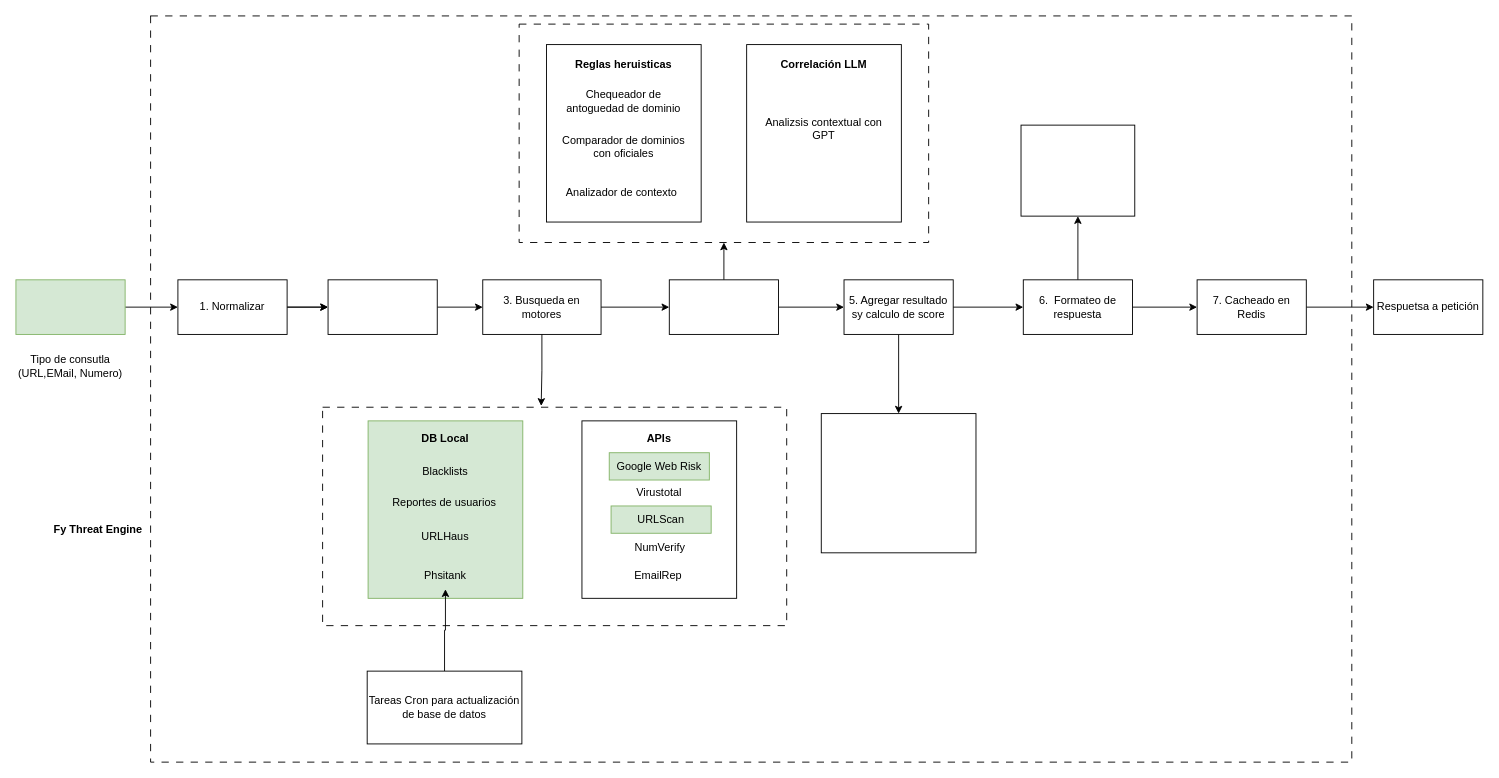
The diagram is 1499 pixels wide and 778 high, and some of its shapes have lost their labels. Here are the shapes that lost their labels. From the top down, the centre of each, then its label:
[1077,170]: risk_score risk_level Threats [] Reasons [] recommended_action
[70,306]: Envío petición
[382,306]: 2. Chequeo de caché (Redis)
[723,306]: 4. Correlación Lógica
[898,483]: Agregar pesos: - DB Local - APIS - Correlcación Score Final (0-100)
